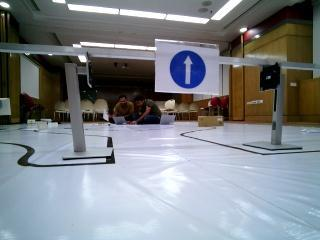straight: (155, 39, 214, 92)
